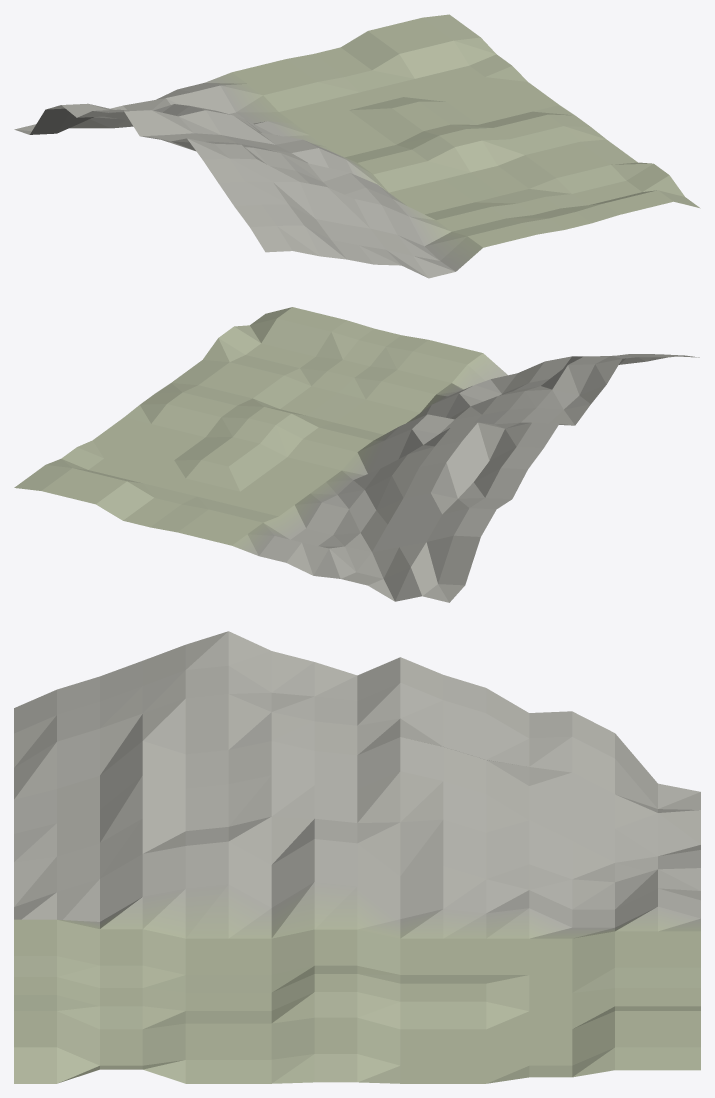
3 renders of one model, top to bottom at view 1: azimuth 30°, elevation 25°; view 2: azimuth 150°, elevation 25°; view 3: azimuth 270°, elevation 25°, orthographic. The views are drawn at different scales.
Bounding box in the file's own units: 32 × 9.11 × 32.
